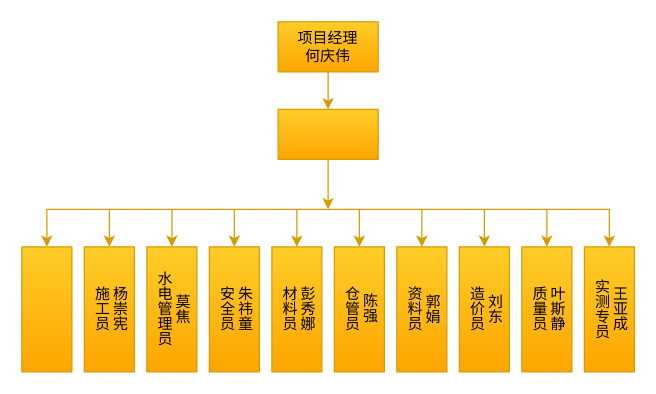
Image size: 656x394. Some labels were removed from this diagram. Here are the shapes that lost their labels. From the top down, the box of each, then its label:
(277, 108, 378, 159): 技术负责人 范辉
(21, 246, 72, 372): 施工员 查文科
